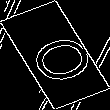O_NE: (14, 25, 96, 85)
